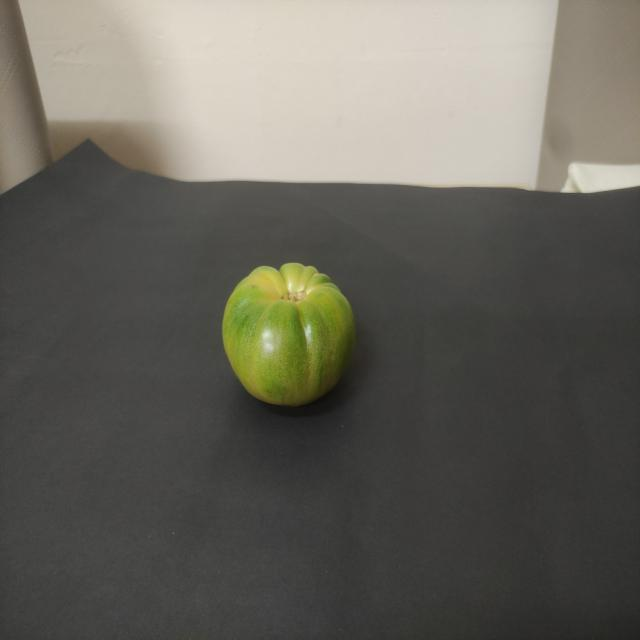yesil: (208, 252, 366, 418)
